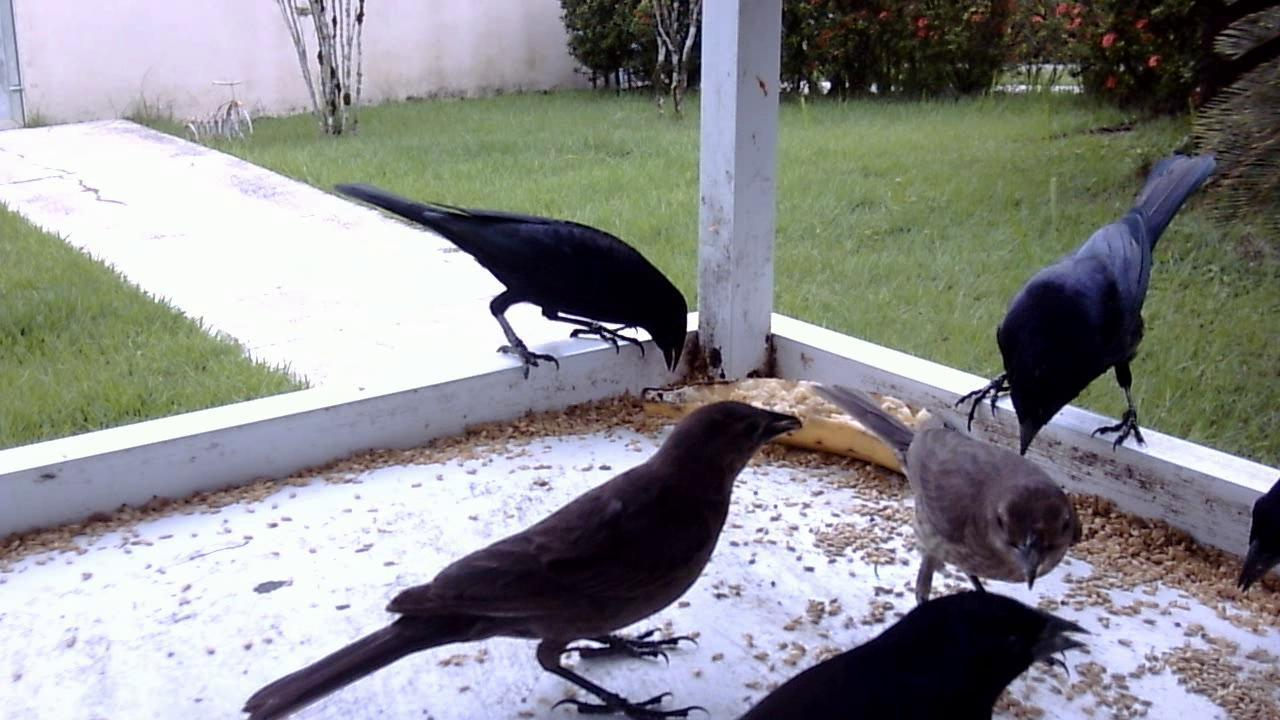chupim: (230, 376, 810, 715), (939, 146, 1232, 469), (321, 174, 699, 401), (696, 571, 1092, 720), (863, 389, 1082, 619), (1224, 450, 1280, 597)
